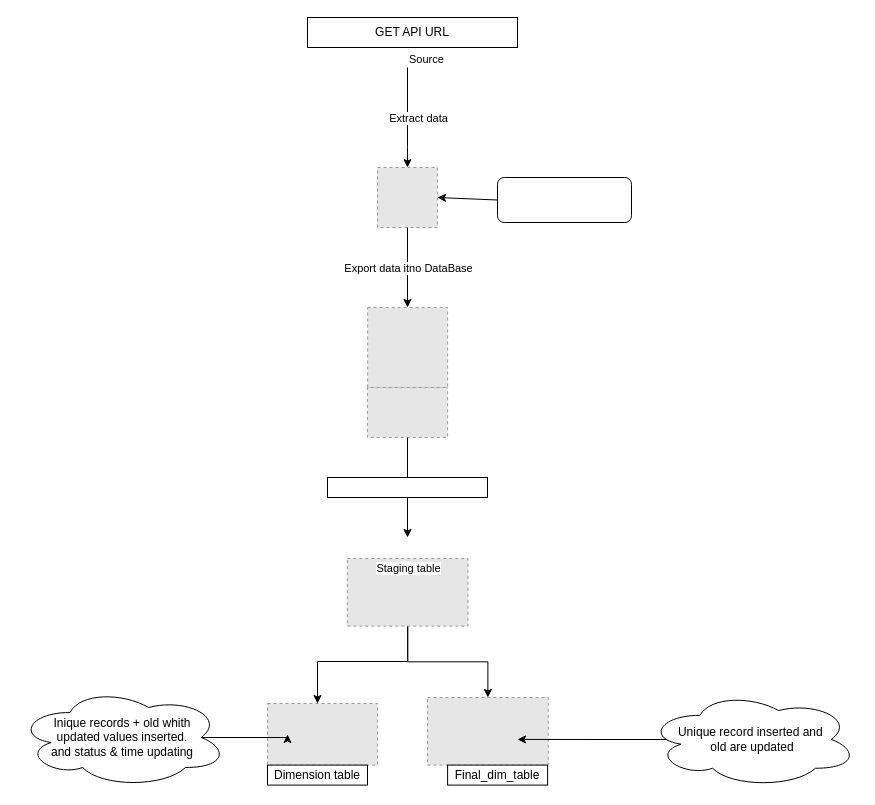
Image size: 875x805. Some labels were removed from this diagram. Grey dashed boxes stand in for pictures. The shapes that lost their labels are listed below. From the top down, each one's box as (x1, y1, x2, y2) in pixels, then its label:
(496, 176, 632, 222): Transform Data
(326, 476, 488, 498): Insert data into Staging table
